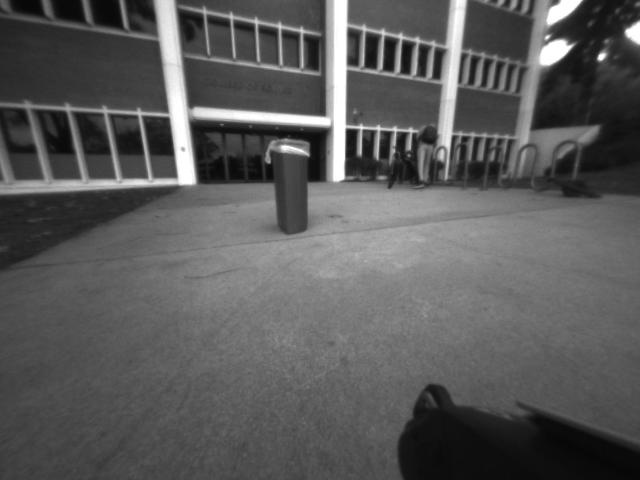trashcan: (263, 129, 316, 242)
